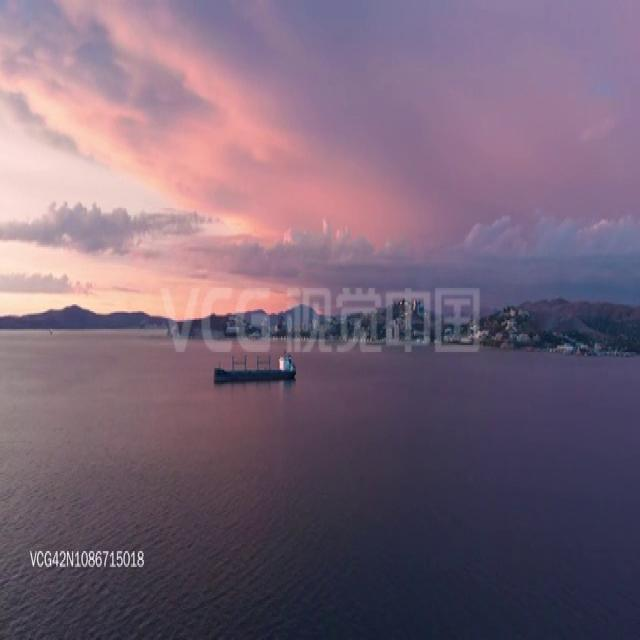fishing boat: (212, 351, 298, 386)
